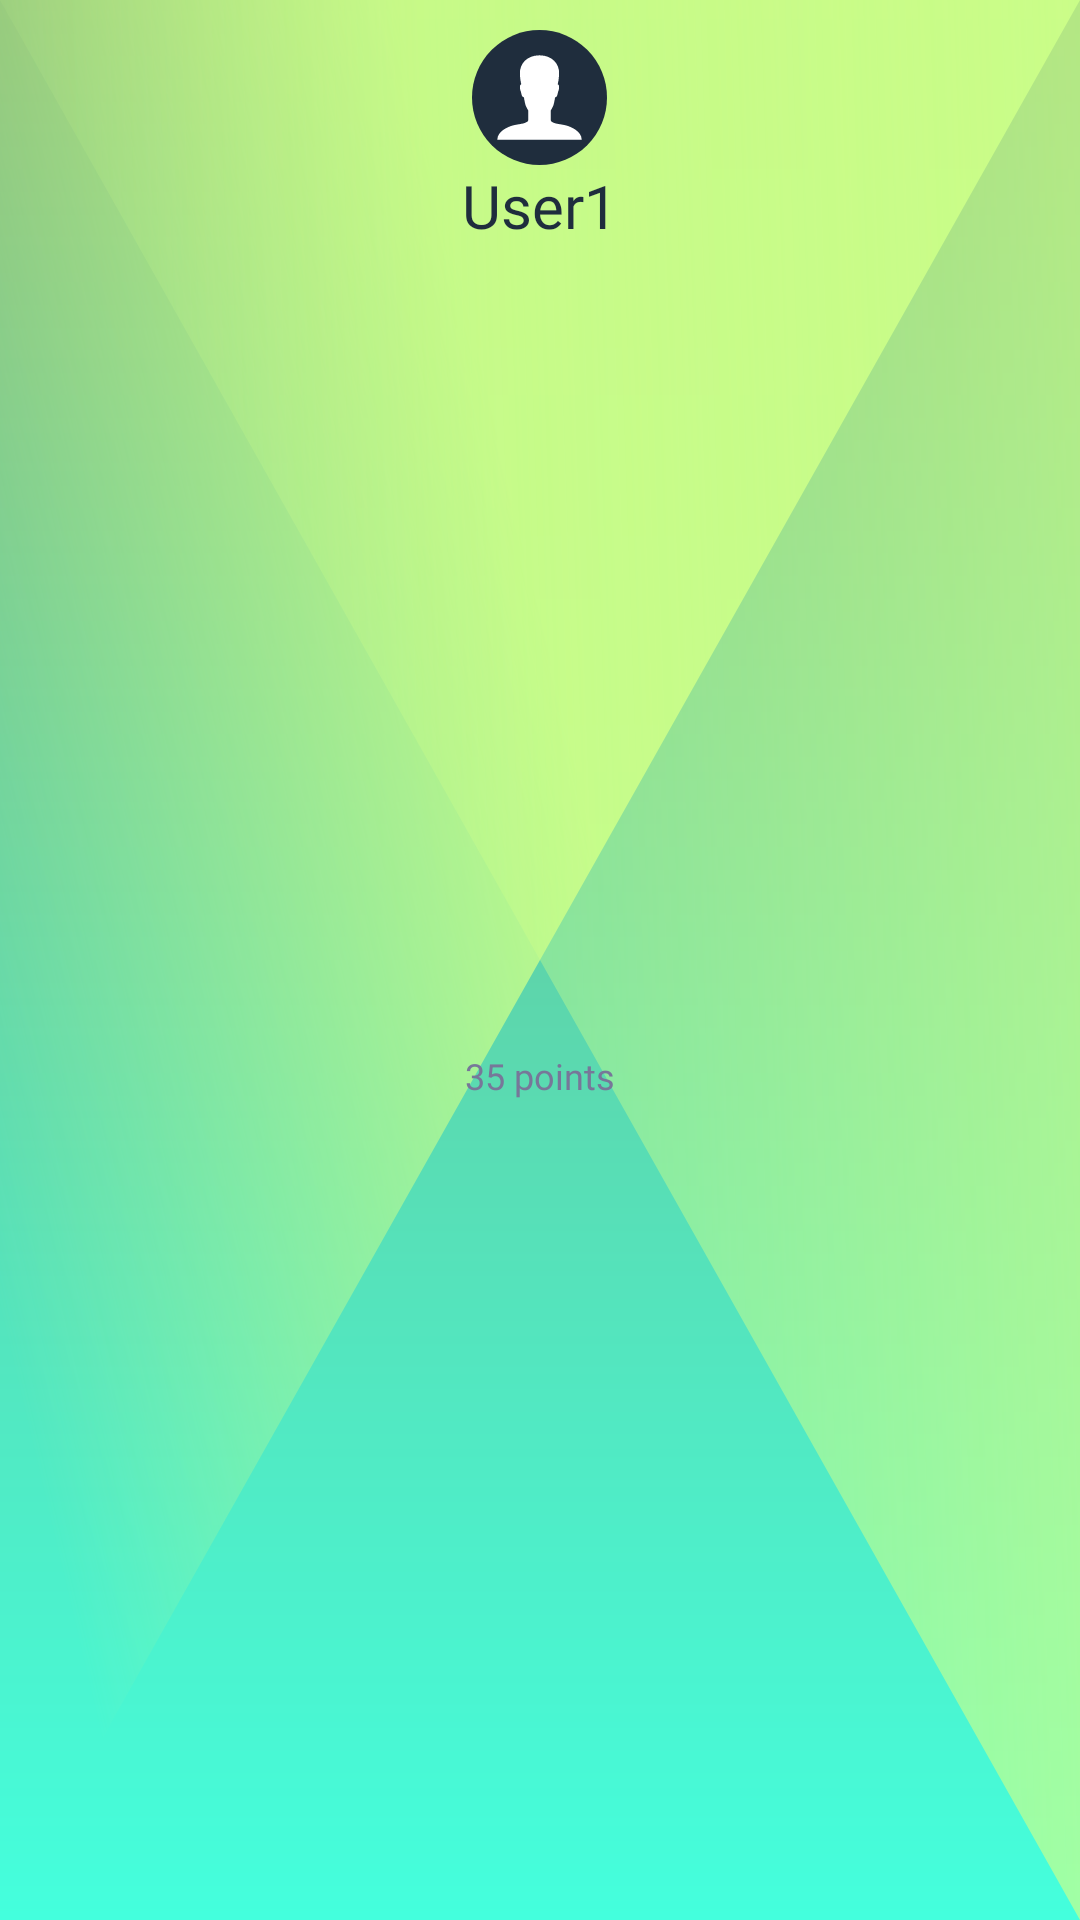

Point at icon controls on the screen. Image size 1080 x 1920, points as (x,y).
Profile picture: (539,97)
